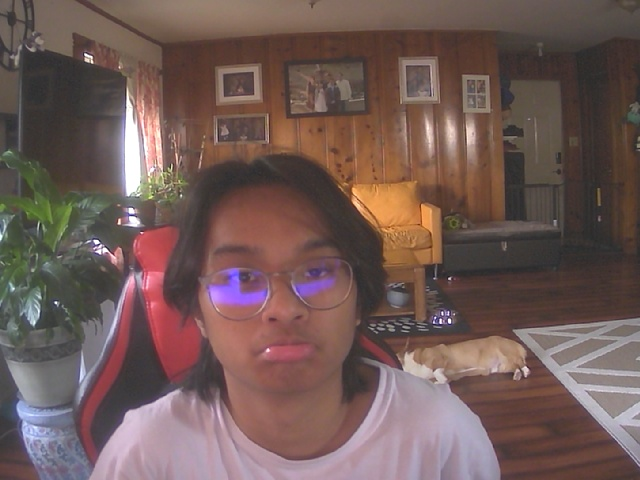sad: (183, 163, 372, 397)
